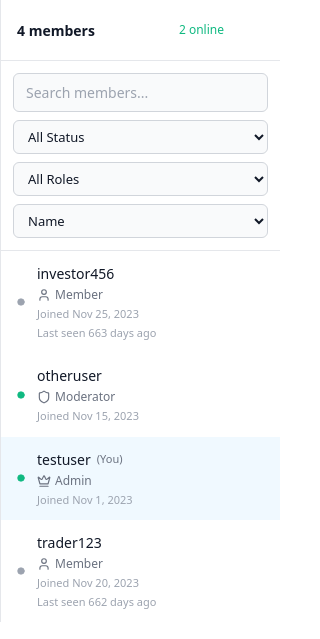
Test: GroupMembers › member filtering and sorting › should filter by role
The width and height of the screenshot is (320, 639).
Select "Admins" in the dropdown named "Filter by role": [140, 179] box [13, 162, 268, 196]
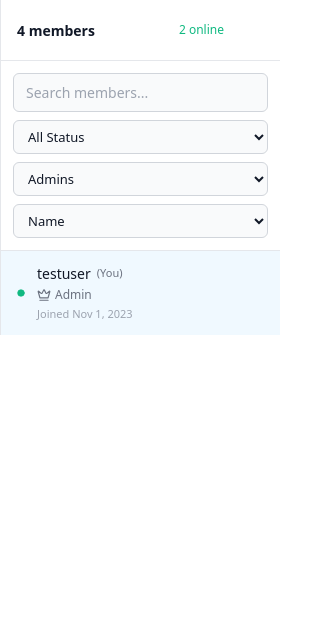
Expected: the text "otheruser" is gone
Expected: the text "trader123" is gone
Expected: the text "investor456" is gone
